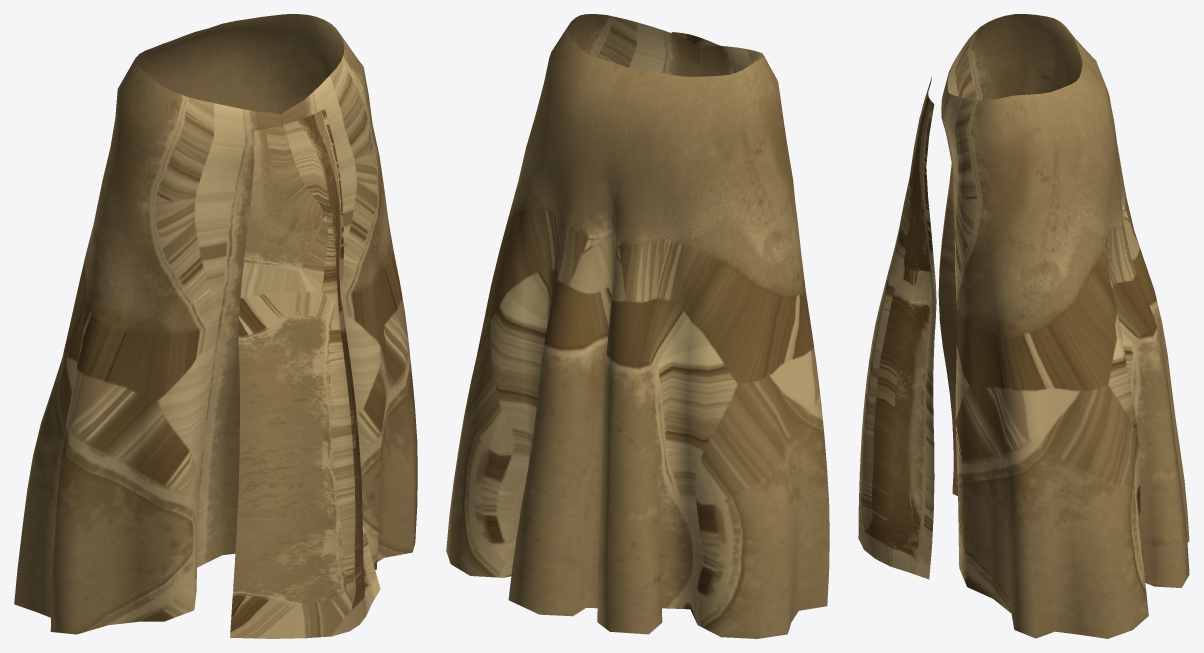
The model's file is clo_rivendell_torso_light_armored_tier3.fbx.
3 views of the same model, side by side, from view 1: azimuth 30°, elevation 25°; view 2: azimuth 150°, elevation 25°; view 3: azimuth 270°, elevation 25° (orthographic). The views are drawn at different scales.
Visible parts, largest first — view 1: clo_rivendell_torso_light_armored_tier3; view 2: clo_rivendell_torso_light_armored_tier3; view 3: clo_rivendell_torso_light_armored_tier3.
Boxes of the visible parts, <box> form: clo_rivendell_torso_light_armored_tier3: <box>14,14,417,638</box>; clo_rivendell_torso_light_armored_tier3: <box>446,14,829,638</box>; clo_rivendell_torso_light_armored_tier3: <box>858,14,1189,638</box>.
Size of the model in its own units: 0.6018 by 0.5129 by 0.8769.
Materials: 1 (1 with a texture image).
